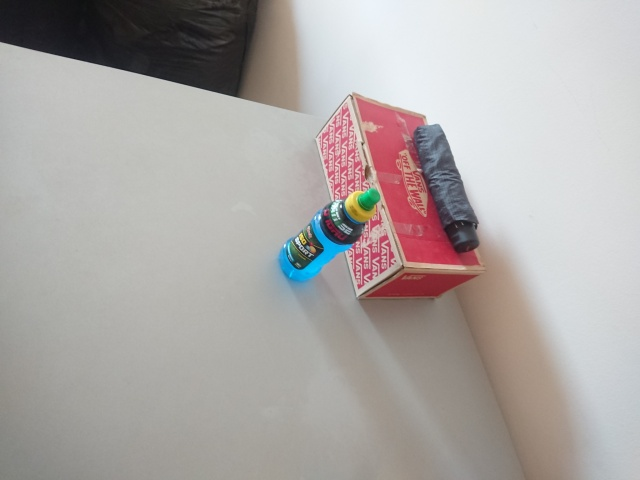Vindi Iso Sport Forest Strawberries 500mL: (275, 185, 381, 283)
